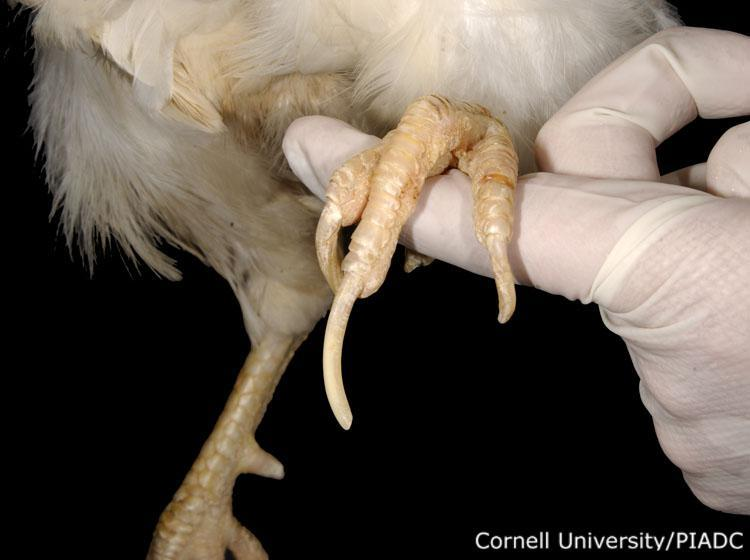AbNormal: (13, 0, 672, 560)
